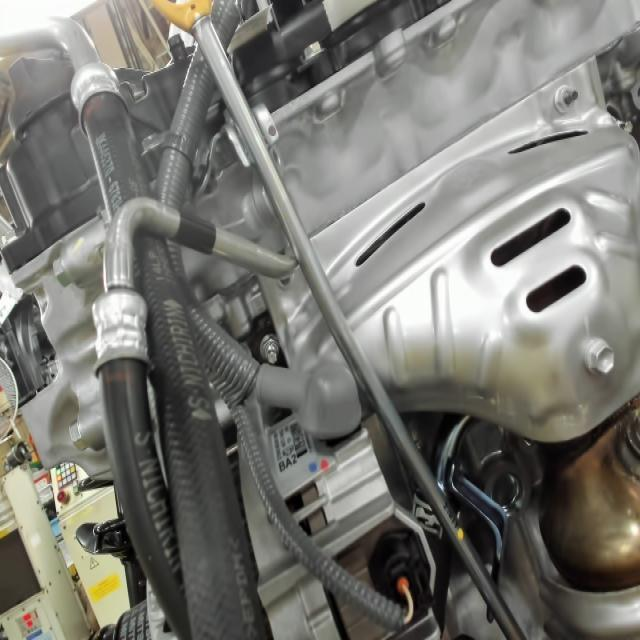Alternator-BA2: (276, 442, 309, 477)
Hose Discharge-HT: (165, 203, 225, 266)
